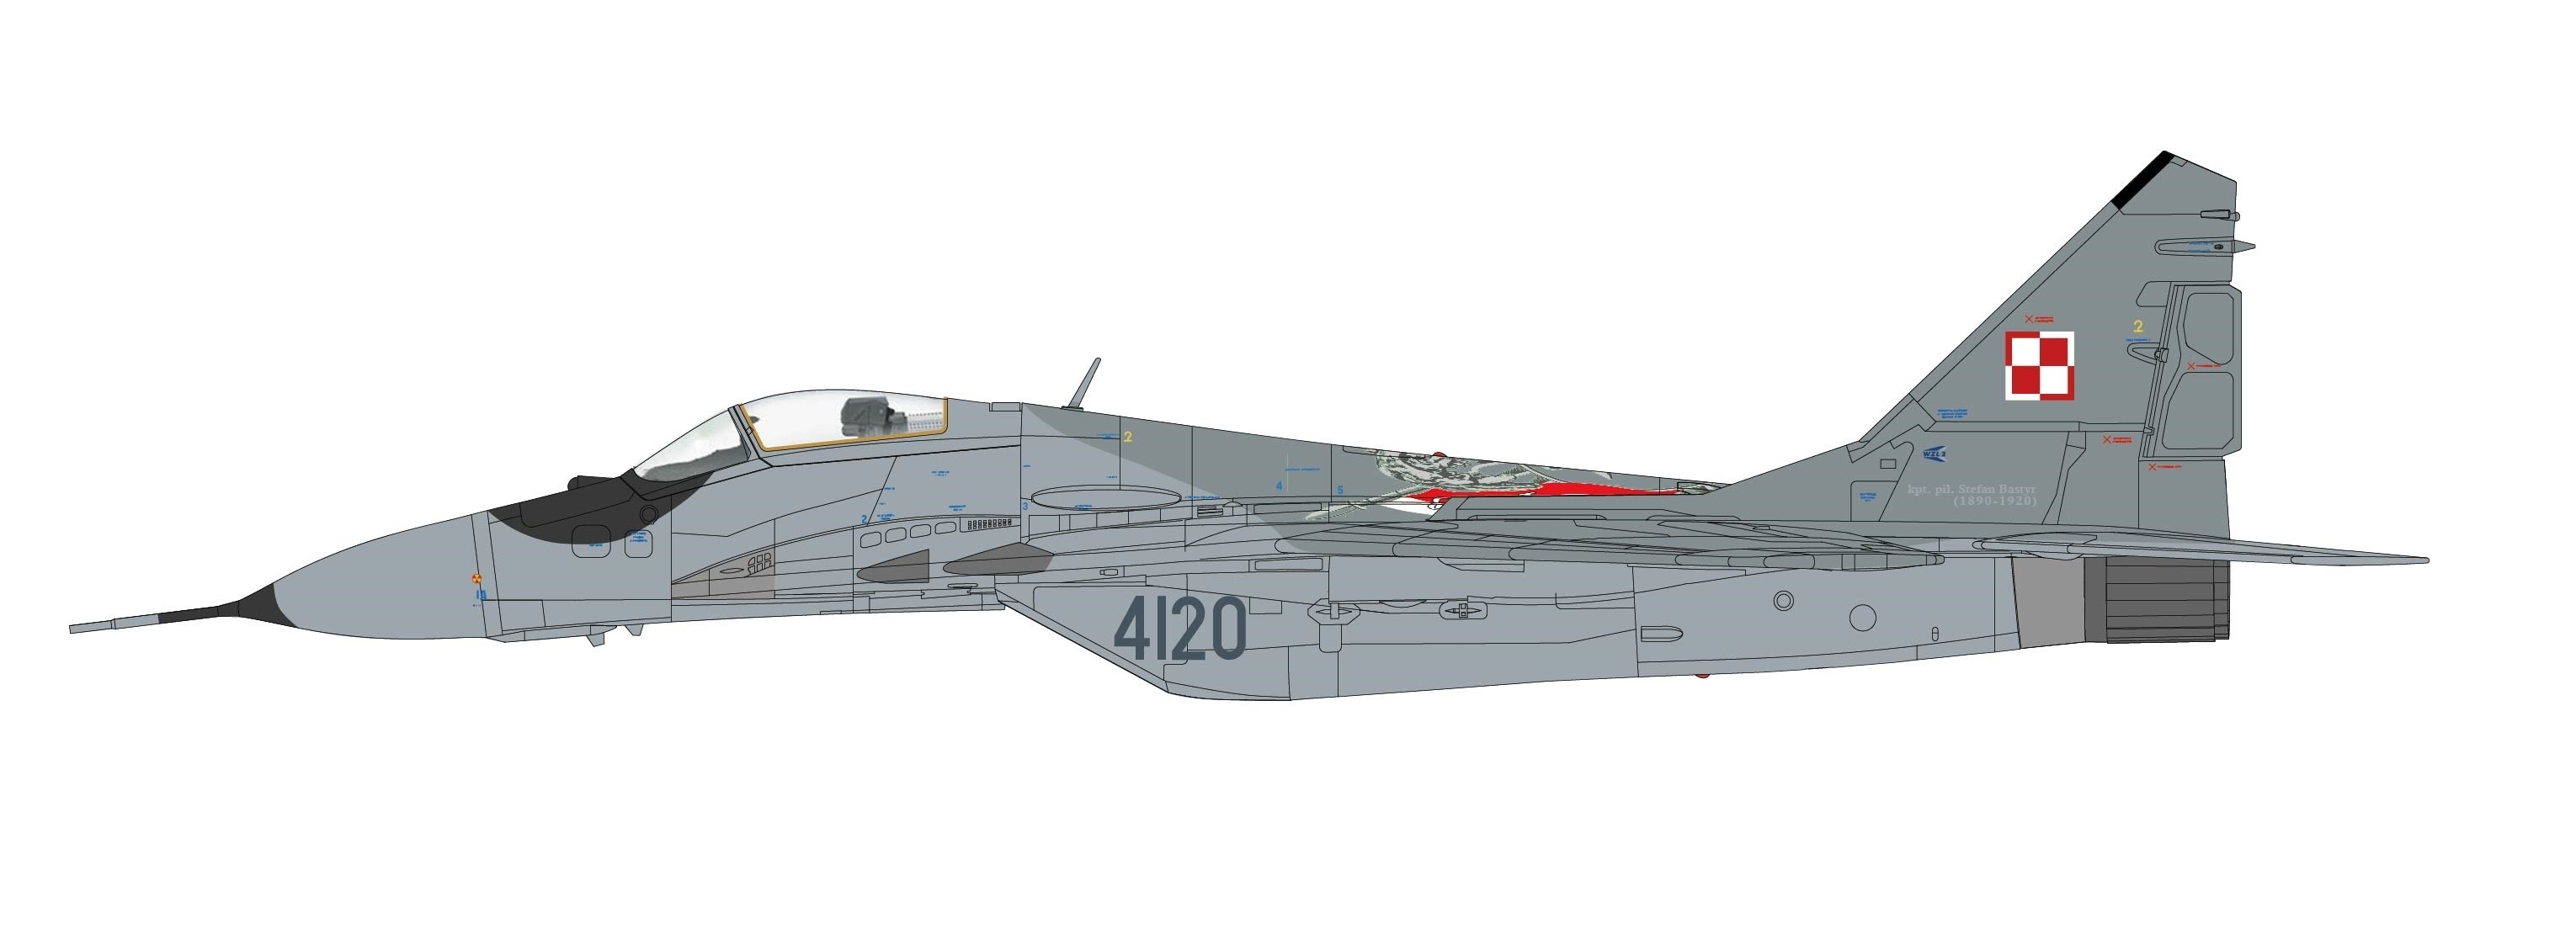Mig-29: (171, 179, 2445, 803)
